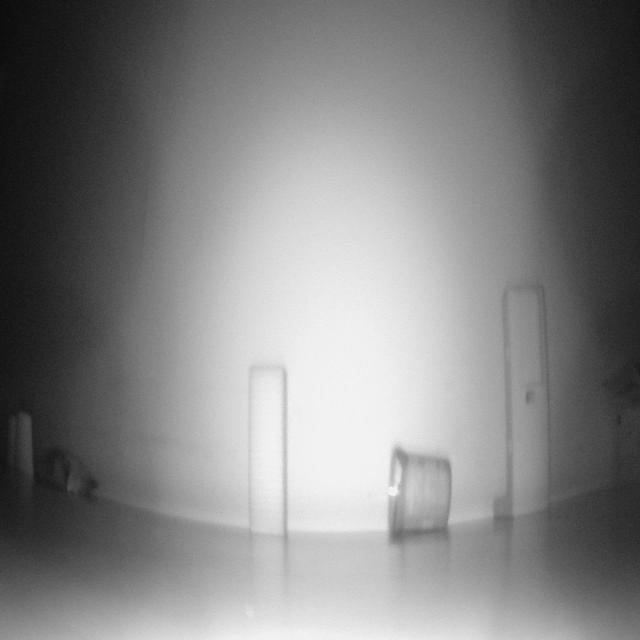targets: (493, 285, 548, 526), (250, 362, 288, 536), (386, 448, 452, 534), (40, 447, 102, 503), (10, 408, 32, 479)
